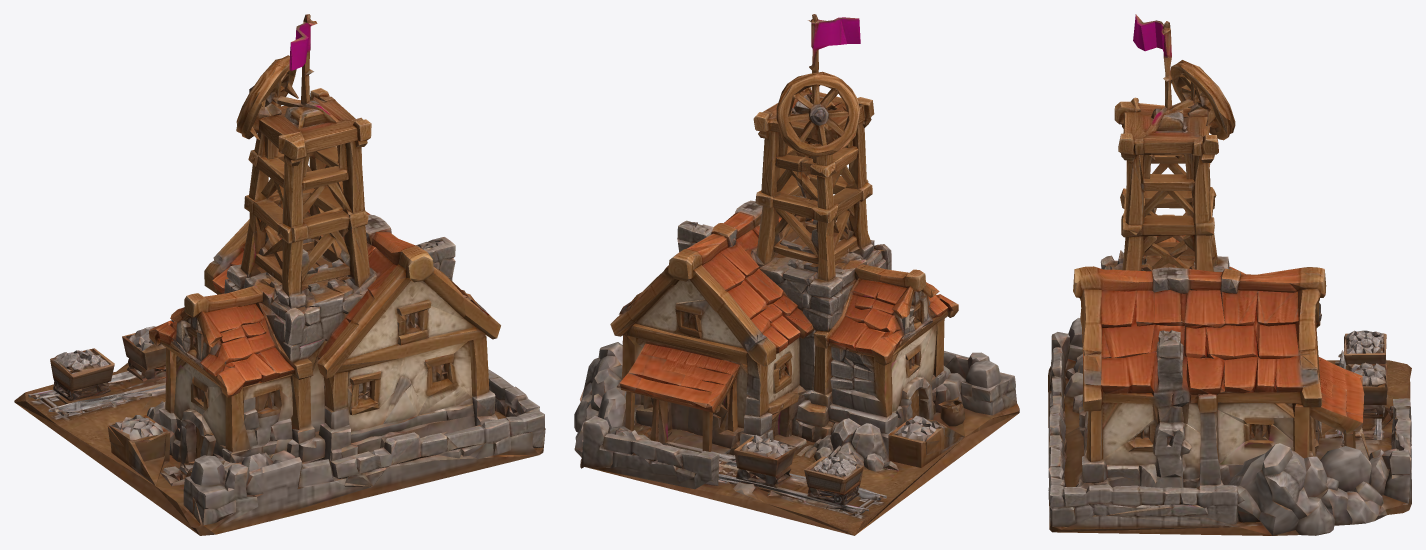
File: stone_mine3.glb
3 views of the same model, side by side, from view 1: azimuth 30°, elevation 25°; view 2: azimuth 150°, elevation 25°; view 3: azimuth 270°, elevation 25° (orthographic). The views are drawn at different scales.
Visible parts, largest first — view 1: Mesh_0; view 2: Mesh_0; view 3: Mesh_0.
Part boxes in pixels (<box>): Mesh_0: <box>14,14,545,535</box>; Mesh_0: <box>574,14,1019,535</box>; Mesh_0: <box>1048,14,1411,535</box>.
Bounding box in the file's own units: 1.62 × 1.9 × 1.47.
1 material, 1 textured.
